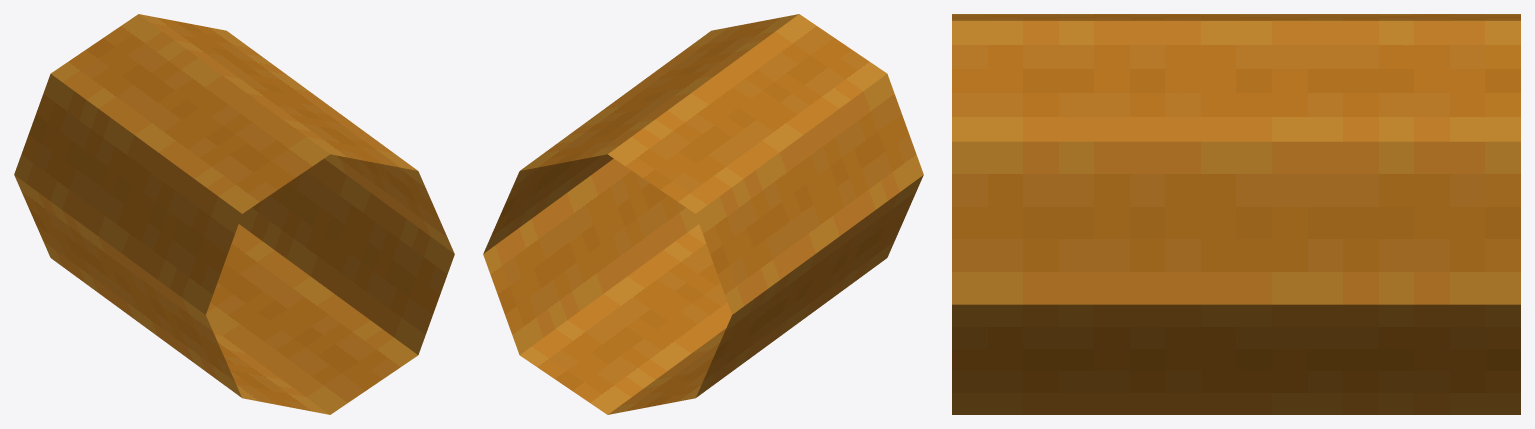
Rendered from ss_pipe_straight_prone.obj.
The picture shows the model from 3 angles, left to right: view 1: azimuth 30°, elevation 25°; view 2: azimuth 150°, elevation 25°; view 3: azimuth 270°, elevation 25°; orthographic projection. The views are drawn at different scales.
Parts seen in each view (by area): view 1: ss_pipe_straight_prone_Cylinder.002; view 2: ss_pipe_straight_prone_Cylinder.002; view 3: ss_pipe_straight_prone_Cylinder.002.
Part boxes in pixels (x1,y1,x2,y2): ss_pipe_straight_prone_Cylinder.002: (14, 14, 454, 414); ss_pipe_straight_prone_Cylinder.002: (483, 14, 923, 414); ss_pipe_straight_prone_Cylinder.002: (952, 14, 1520, 414).
Size of the model in its own units: 0.75 by 0.75 by 1.
